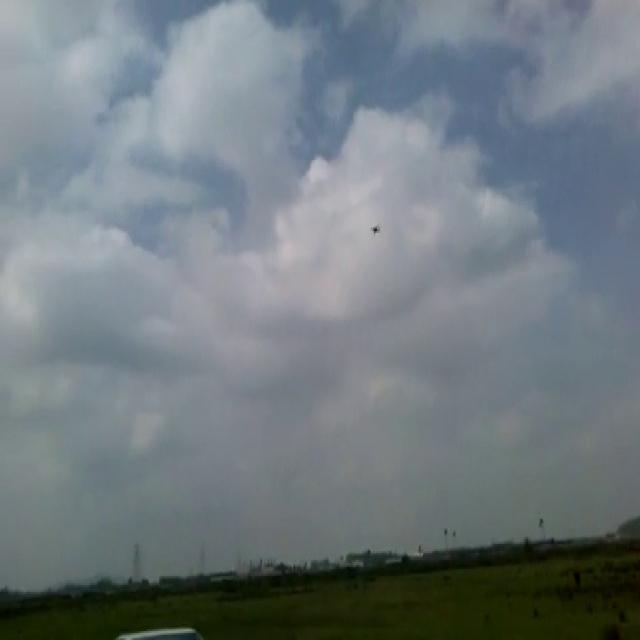drone: (368, 217, 383, 238)
